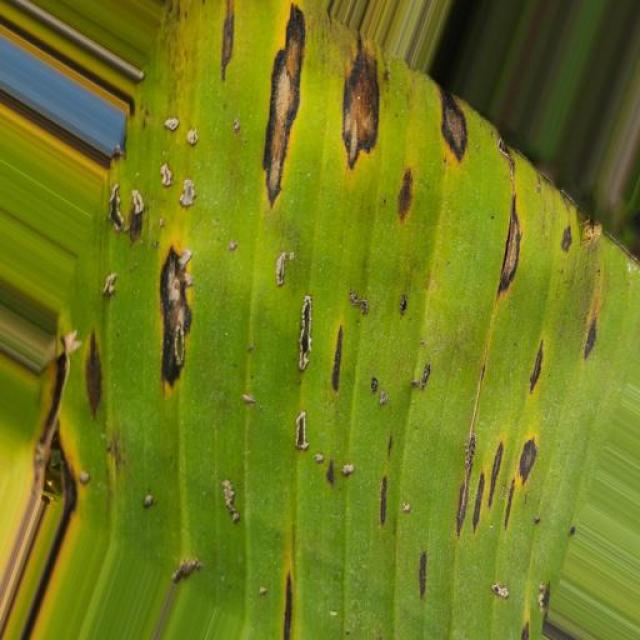Early_rust: (0, 0, 611, 626)
